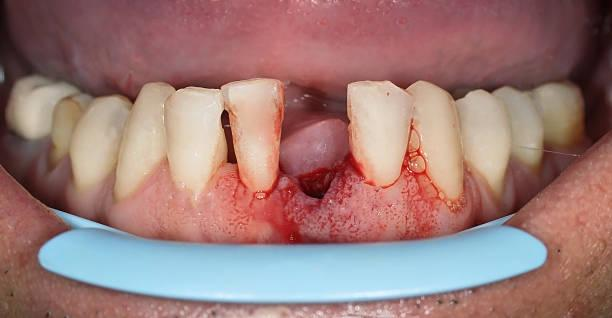Caries: (30, 104, 79, 165), (206, 106, 244, 135)
Gingivitis: (268, 162, 380, 222)
Hypodontia: (266, 88, 358, 173)
